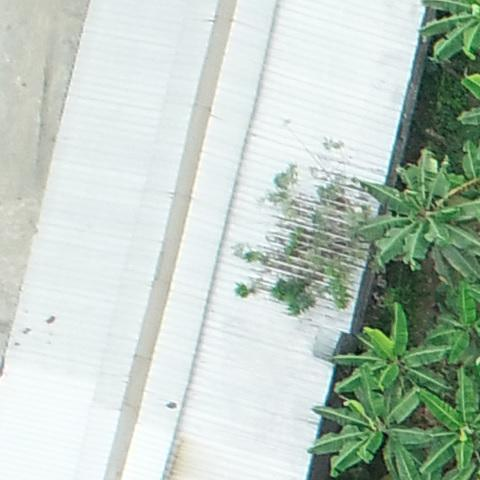Banana-plant: (352, 147, 478, 276), (303, 374, 434, 476), (332, 295, 453, 401), (419, 368, 479, 480), (432, 287, 480, 363)
